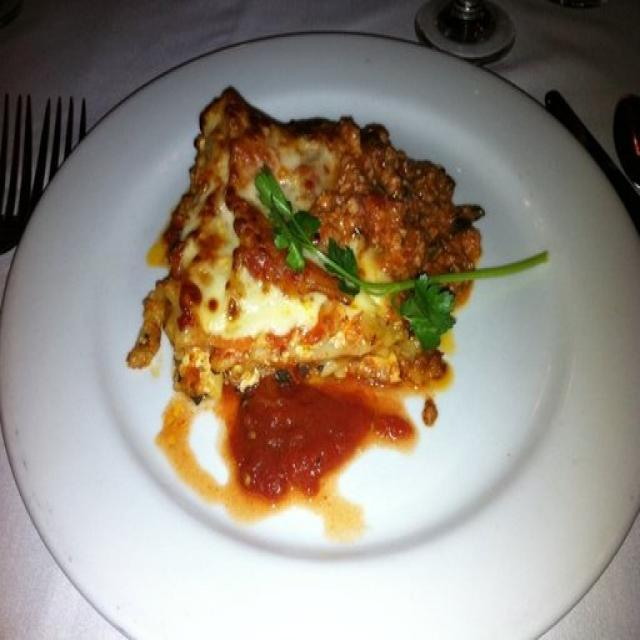Lasagna: (135, 74, 497, 491)
